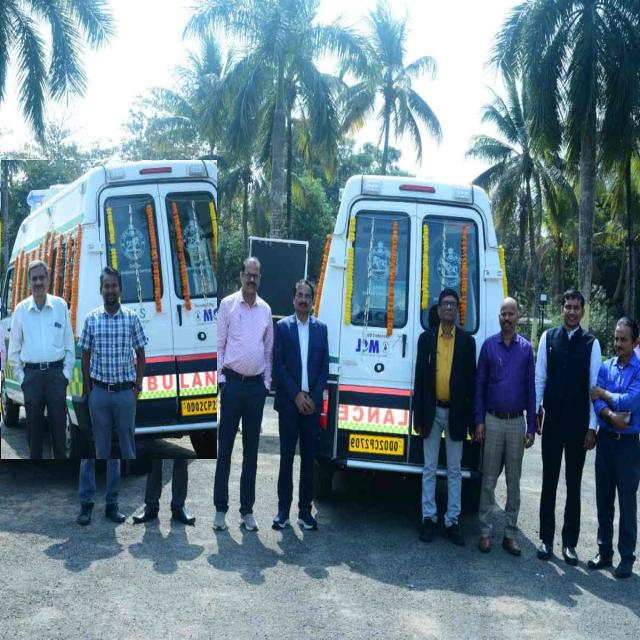emergency: (1, 160, 216, 459), (315, 175, 506, 498), (126, 354, 151, 473)
